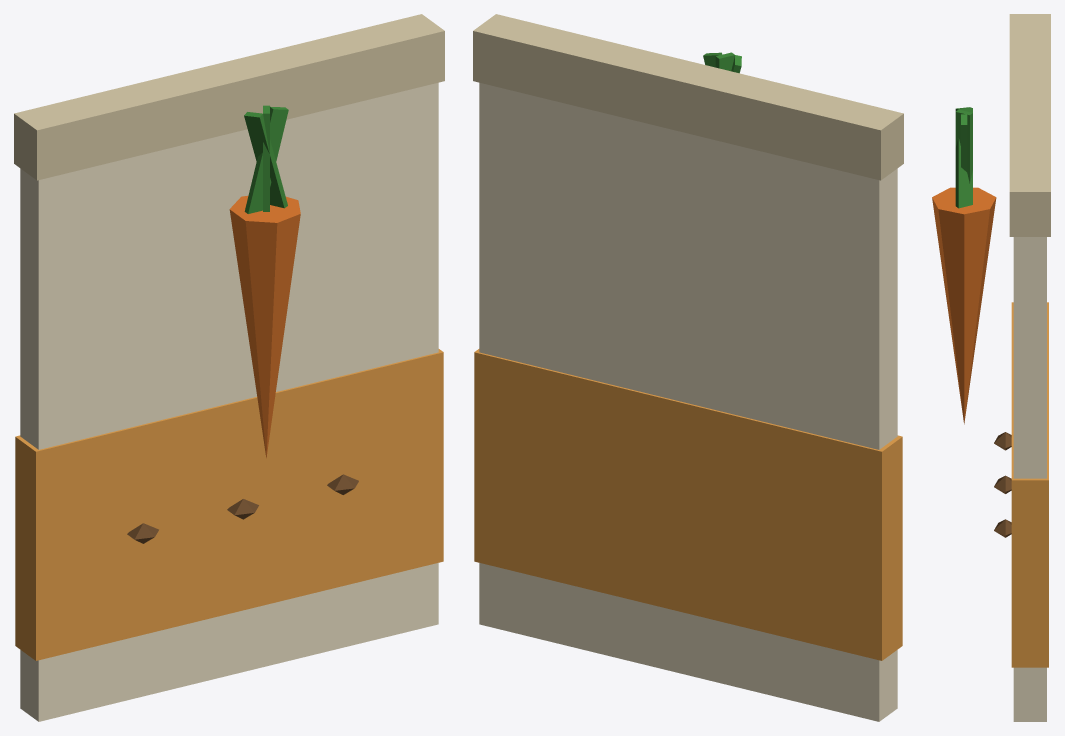
The model's file is uprawa-nasiona-marchew.glb.
3 renders of one model, left to right at view 1: azimuth 30°, elevation 25°; view 2: azimuth 150°, elevation 25°; view 3: azimuth 270°, elevation 25°, orthographic. The views are drawn at different scales.
Parts seen in each view (by area): view 1: uprawa-nasiona-marchew-0, uprawa-nasiona-marchew-1, uprawa-nasiona-marchew-2, uprawa-nasiona-marchew-3, uprawa-nasiona-marchew-6, uprawa-nasiona-marchew-4; view 2: uprawa-nasiona-marchew-0, uprawa-nasiona-marchew-1, uprawa-nasiona-marchew-2; view 3: uprawa-nasiona-marchew-0, uprawa-nasiona-marchew-2, uprawa-nasiona-marchew-1, uprawa-nasiona-marchew-3, uprawa-nasiona-marchew-6, uprawa-nasiona-marchew-5, uprawa-nasiona-marchew-4, uprawa-nasiona-marchew-9, uprawa-nasiona-marchew-8, uprawa-nasiona-marchew-7.
Boxes of the visible parts, <box> form: uprawa-nasiona-marchew-0: <box>20,82,438,721</box>; uprawa-nasiona-marchew-1: <box>15,349,443,660</box>; uprawa-nasiona-marchew-2: <box>14,14,444,180</box>; uprawa-nasiona-marchew-3: <box>229,195,300,458</box>; uprawa-nasiona-marchew-6: <box>244,112,287,208</box>; uprawa-nasiona-marchew-4: <box>244,106,288,213</box>; uprawa-nasiona-marchew-0: <box>479,82,897,721</box>; uprawa-nasiona-marchew-1: <box>474,349,902,660</box>; uprawa-nasiona-marchew-2: <box>473,14,903,180</box>; uprawa-nasiona-marchew-0: <box>1013,237,1046,721</box>; uprawa-nasiona-marchew-2: <box>1009,14,1050,236</box>; uprawa-nasiona-marchew-1: <box>1011,302,1048,667</box>; uprawa-nasiona-marchew-3: <box>932,187,996,424</box>; uprawa-nasiona-marchew-6: <box>955,107,972,208</box>; uprawa-nasiona-marchew-5: <box>955,109,972,183</box>; uprawa-nasiona-marchew-4: <box>961,114,967,172</box>; uprawa-nasiona-marchew-9: <box>994,519,1011,537</box>; uprawa-nasiona-marchew-8: <box>994,475,1011,493</box>; uprawa-nasiona-marchew-7: <box>994,432,1011,450</box>.
Bounding box in the file's own units: 1.02 × 1.42 × 0.288.
